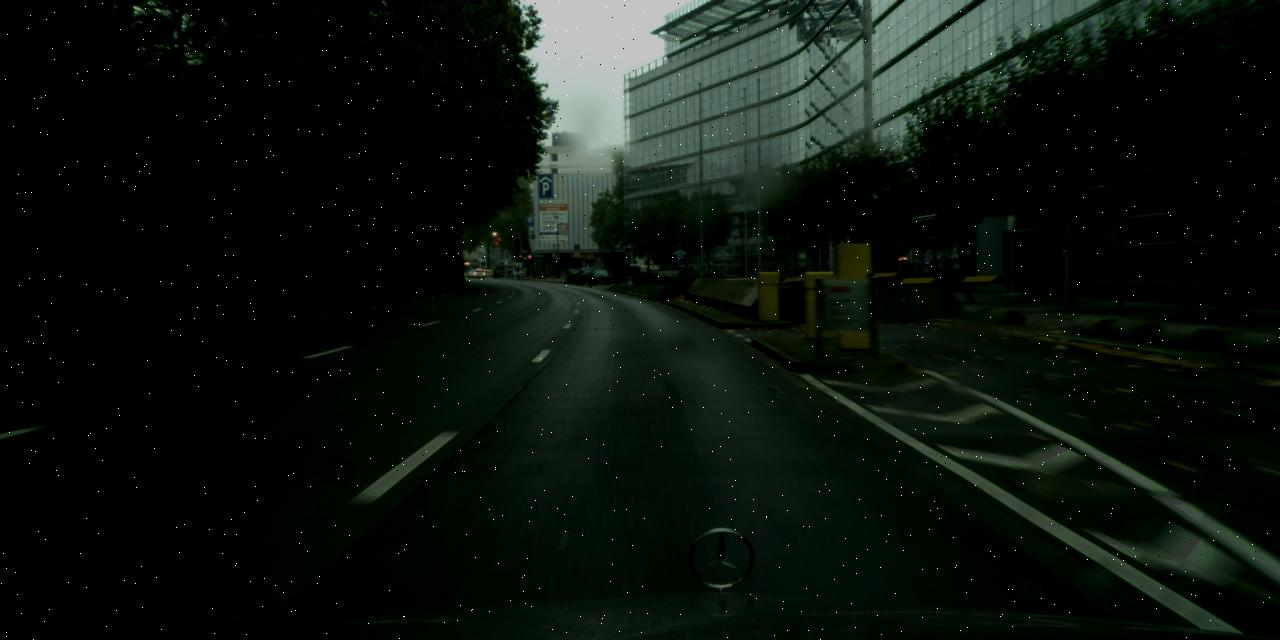ped: (1219, 241, 1253, 325), (930, 261, 941, 290), (910, 260, 921, 288), (943, 262, 954, 289), (898, 262, 908, 288)
